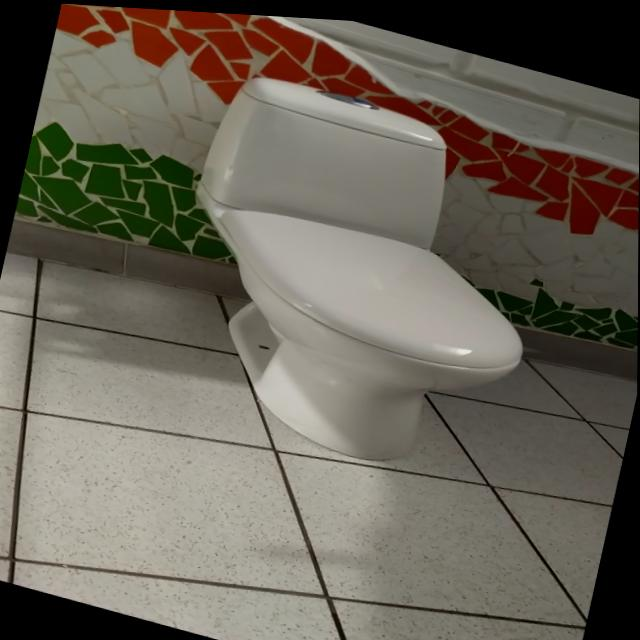toilet: (146, 53, 568, 492)
